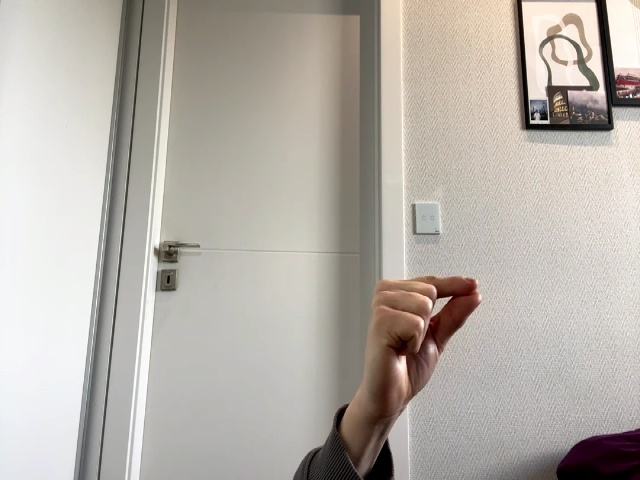P: (368, 277, 482, 392)
